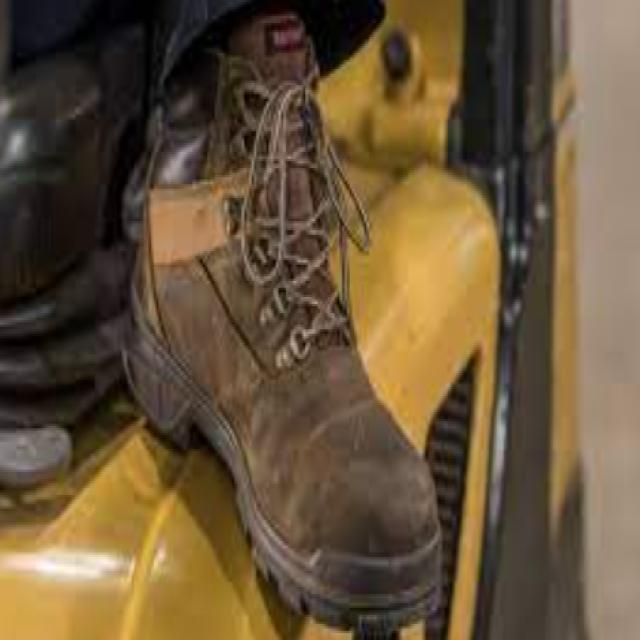boots: (118, 0, 449, 635)
